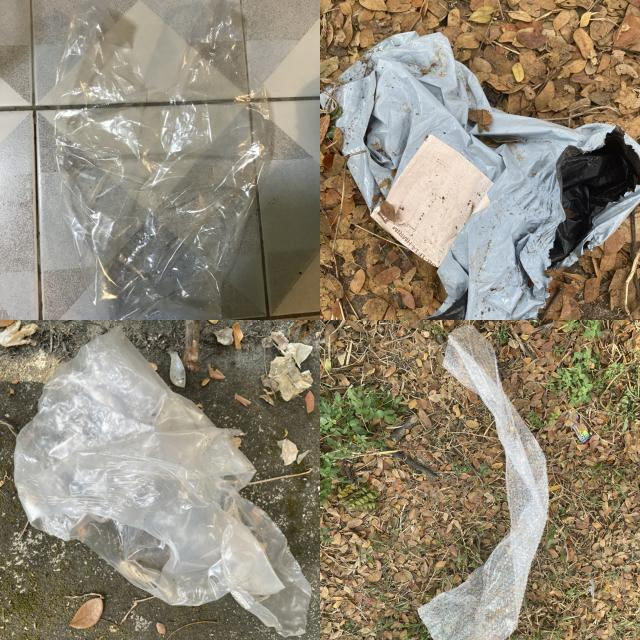Single-layer Plastic: (14, 326, 311, 636), (334, 32, 640, 320), (54, 0, 270, 319), (419, 325, 549, 640)
